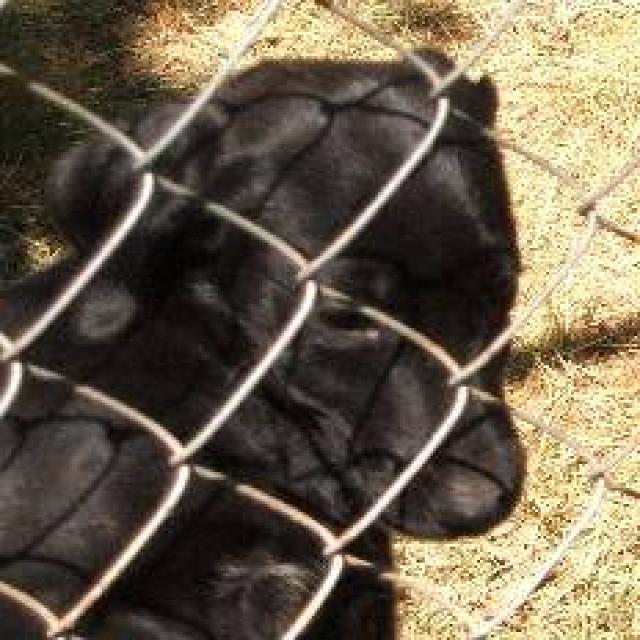dog: (0, 0, 527, 637)
